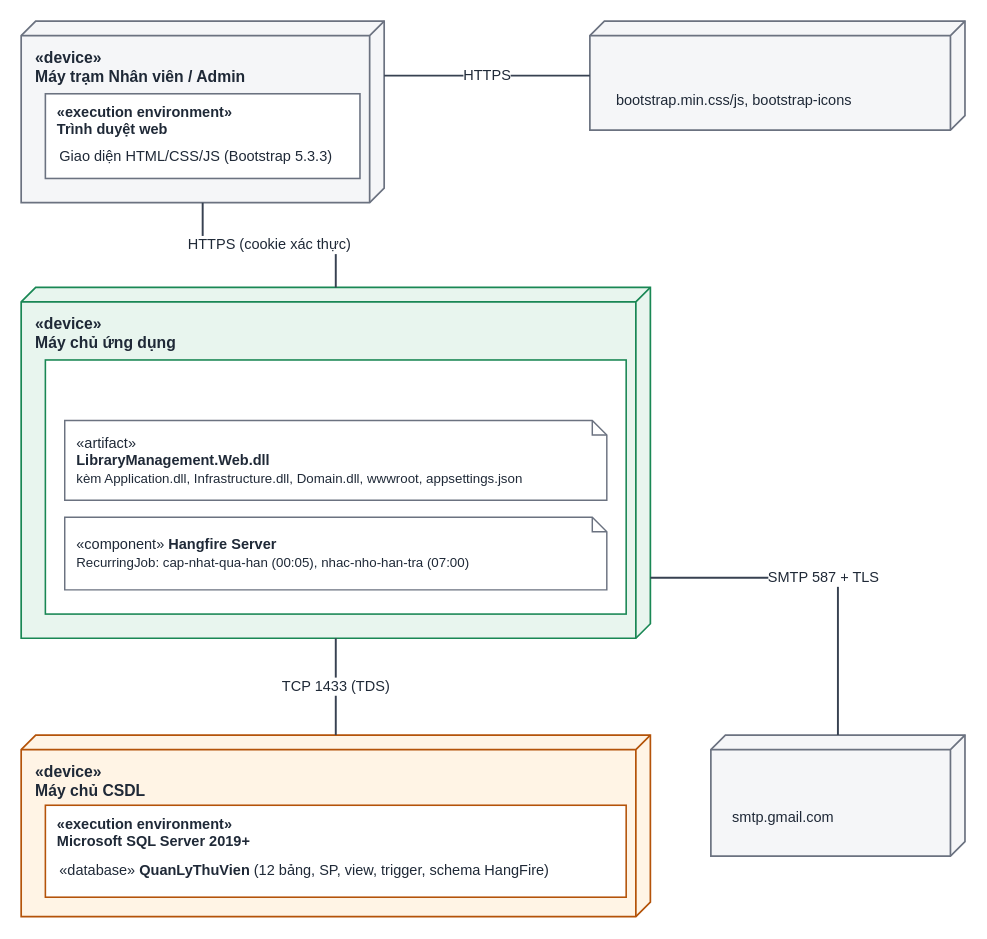
Image size: 987x939. Some labels were removed from this diagram. Each missing label, with the box of its shape:
«execution environment» .NET 8 Runtime – ASP.NET Core (Kestrel): (44, 359, 626, 614)
«node» CDN jsDelivr: (588, 20, 965, 130)
«node» Máy chủ SMTP Gmail: (709, 734, 965, 856)
